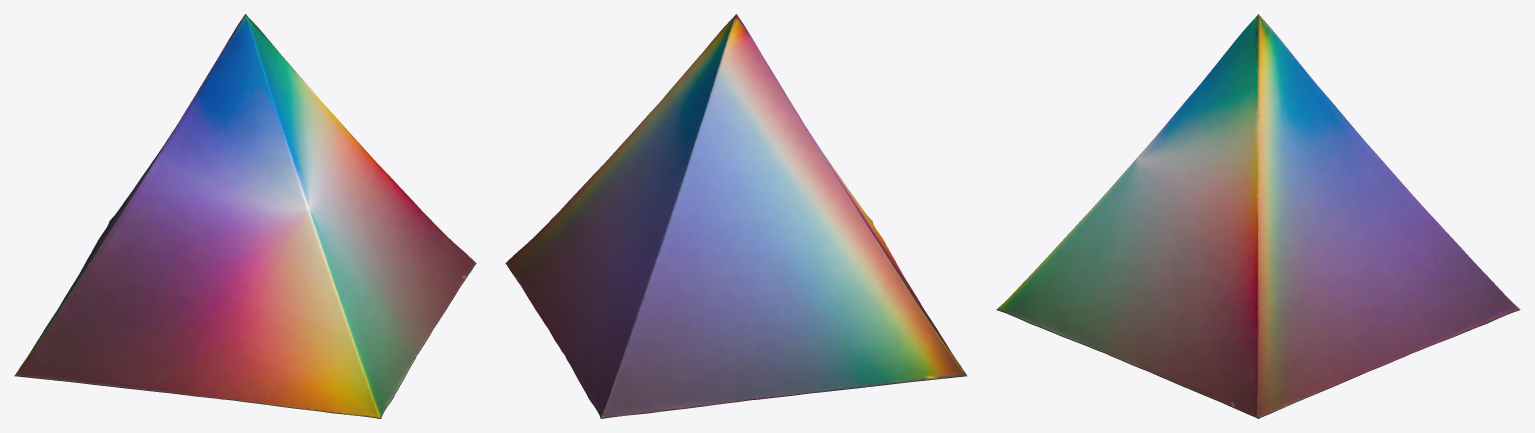
File: photo.glb
3 views of the same model, side by side, from view 1: azimuth 30°, elevation 25°; view 2: azimuth 150°, elevation 25°; view 3: azimuth 270°, elevation 25° (orthographic). The views are drawn at different scales.
Size of the model in its own units: 1.95 by 1.23 by 1.98.
Materials: 1 (1 with a texture image).
